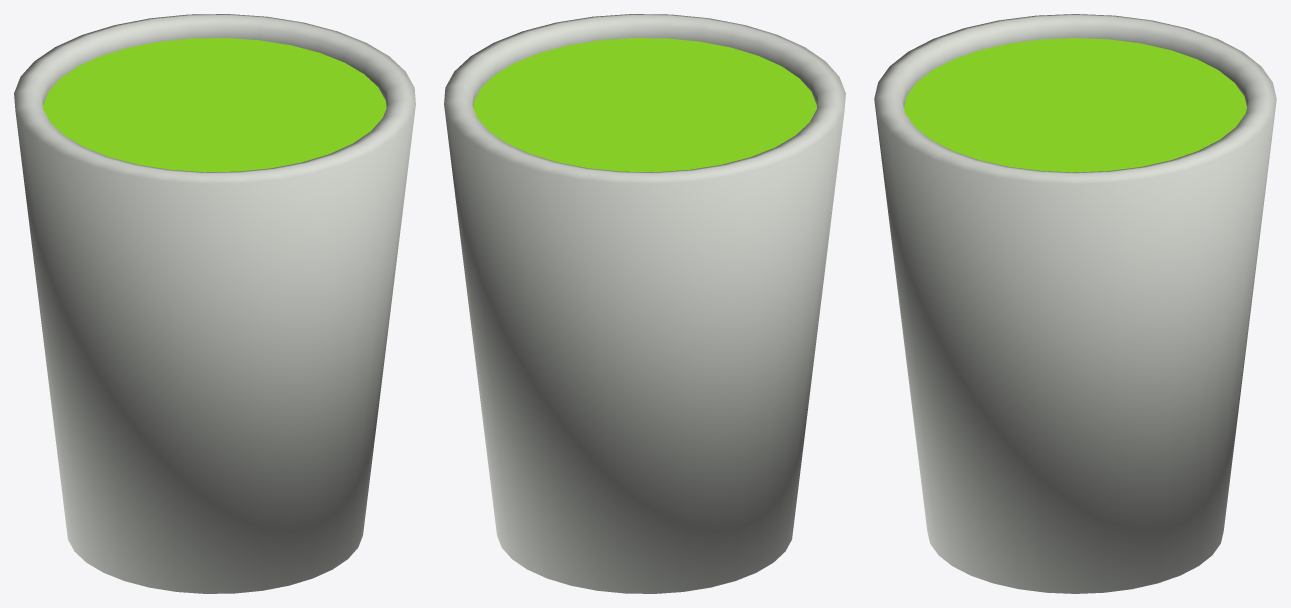
The model's file is GlassFull.fbx.
3 renders of one model, left to right at view 1: azimuth 30°, elevation 25°; view 2: azimuth 150°, elevation 25°; view 3: azimuth 270°, elevation 25°, orthographic.
Visible parts, largest first — view 1: glsF; view 2: glsF; view 3: glsF.
Boxes of the visible parts, x1=… form: glsF: x1=14, y1=14, x2=415, y2=593; glsF: x1=444, y1=14, x2=845, y2=593; glsF: x1=874, y1=14, x2=1276, y2=593.
Bounding box in the file's own units: 168 × 203 × 168.
